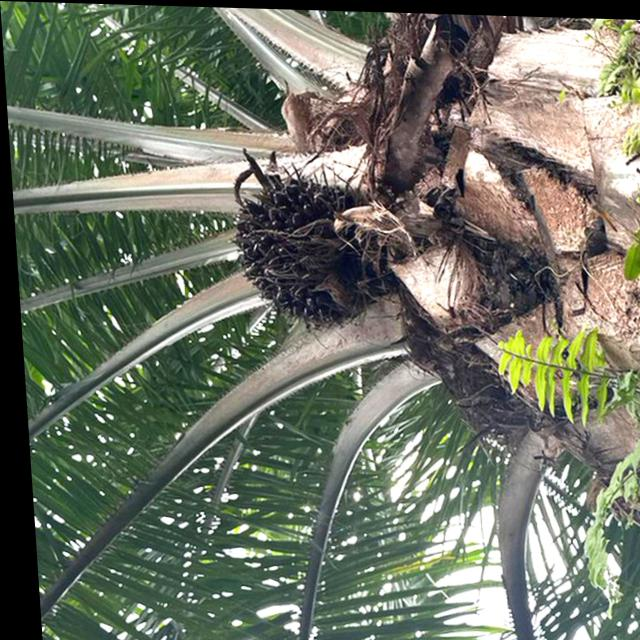almost: (223, 171, 375, 332)
